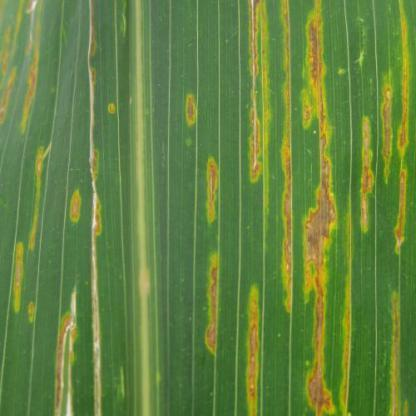Corn leaf blight: (1, 1, 403, 415)
